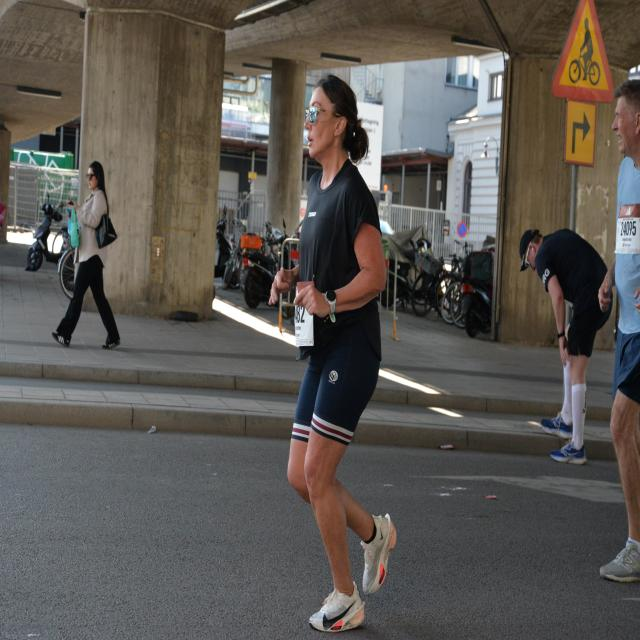runner-detect: (266, 59, 420, 631)
